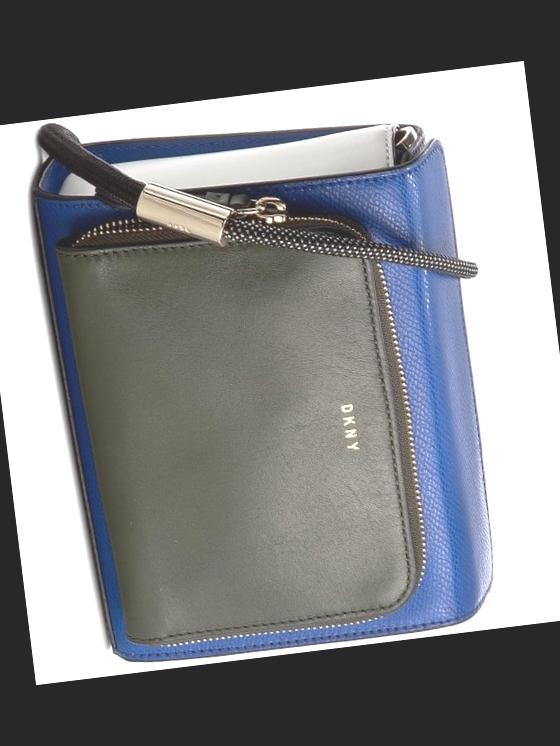DKNY: (339, 404, 359, 452)
